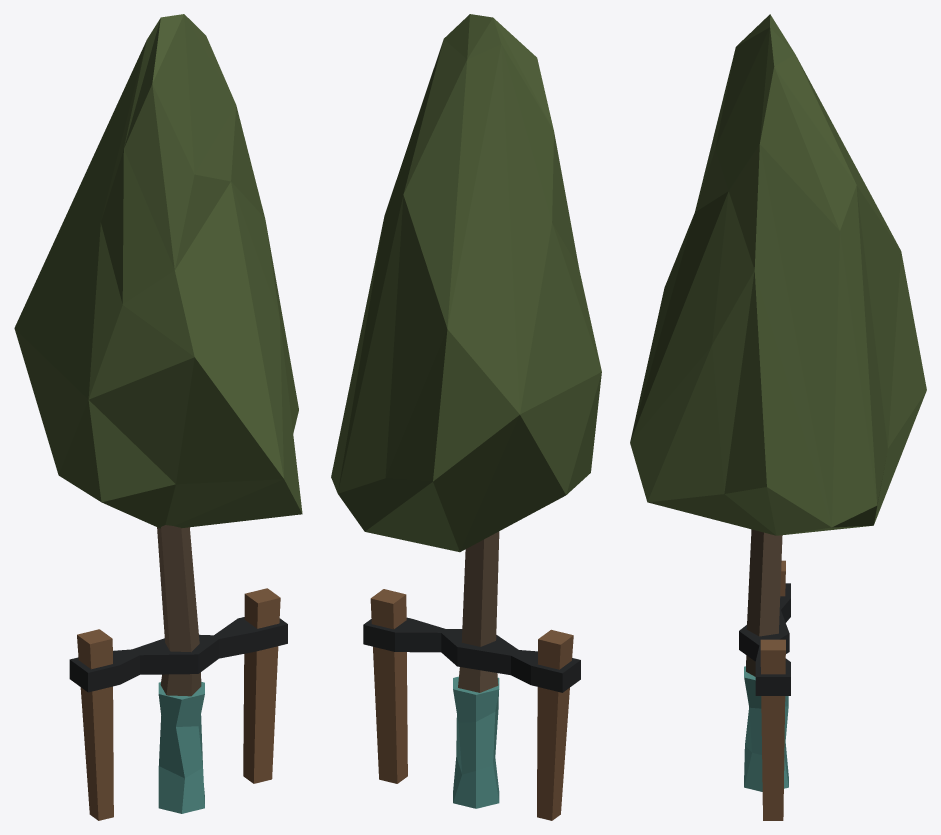
Rendered from SM_Env_Tree_03_Framed.fbx.
3 views of the same model, side by side, from view 1: azimuth 30°, elevation 25°; view 2: azimuth 150°, elevation 25°; view 3: azimuth 270°, elevation 25° (orthographic). The views are drawn at different scales.
Parts seen in each view (by area): view 1: SM_Env_Tree_03_Framed; view 2: SM_Env_Tree_03_Framed; view 3: SM_Env_Tree_03_Framed.
Boxes of the visible parts, left/top/right/bottom form: SM_Env_Tree_03_Framed: left=14, top=14, right=302, bottom=820; SM_Env_Tree_03_Framed: left=331, top=14, right=601, bottom=820; SM_Env_Tree_03_Framed: left=630, top=14, right=926, bottom=820.
Bounding box in the file's own units: 98.46 × 326 × 116.
